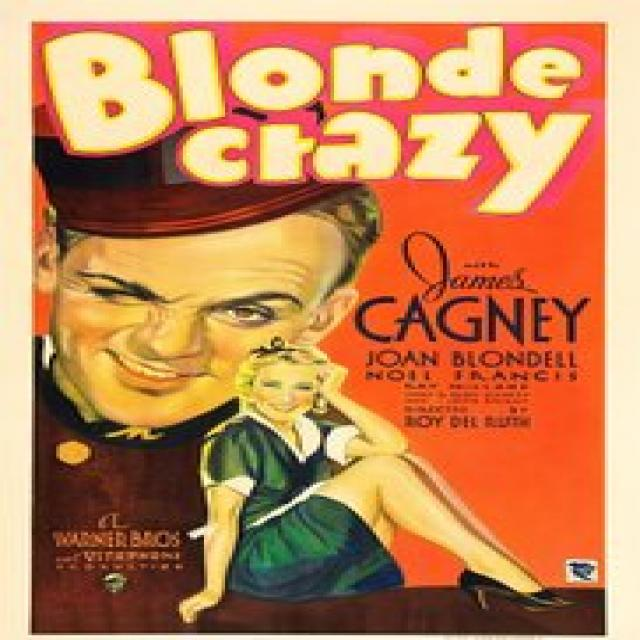movie-judul: (40, 27, 612, 217)
picture: (38, 219, 566, 640)
